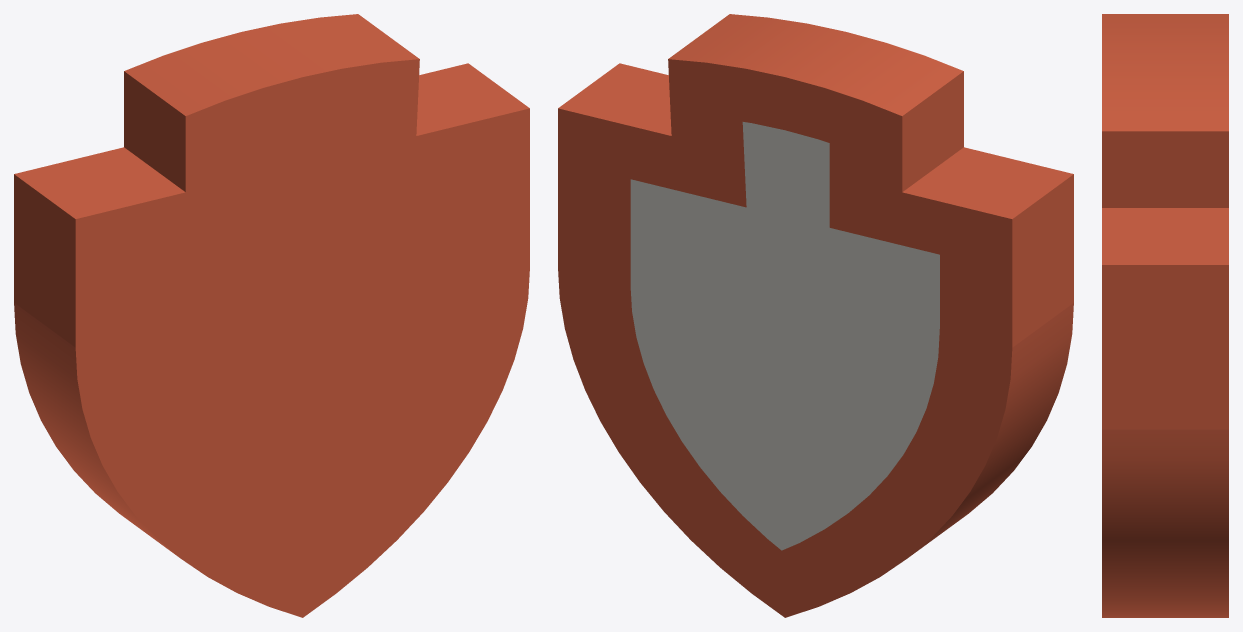
Rendered from shieldRed.fbx.
3 views of the same model, side by side, from view 1: azimuth 30°, elevation 25°; view 2: azimuth 150°, elevation 25°; view 3: azimuth 270°, elevation 25° (orthographic). The views are drawn at different scales.
Visible parts, largest first — view 1: shieldRed; view 2: shieldRed; view 3: shieldRed.
Boxes of the visible parts, box(x1,y1,x2,y2) form: shieldRed: box(14, 14, 529, 617); shieldRed: box(558, 14, 1073, 617); shieldRed: box(1102, 14, 1228, 617).
Size of the model in its own units: 2.4 by 2.73 by 0.564.
